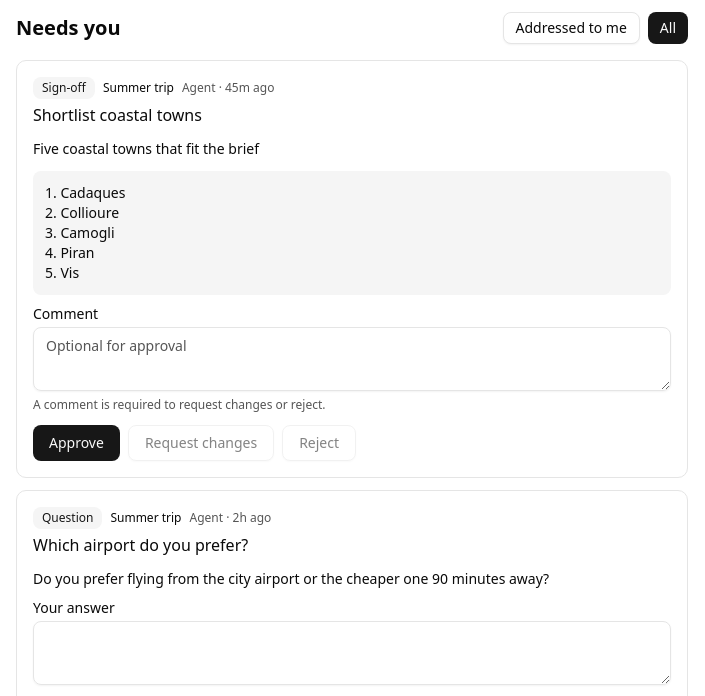
it: Needs you inbox › rejecting and requesting changes need a comment
Expected: the button "Reject" is disabled, [282, 425, 356, 461]
Expected: the button "Request changes" is disabled, [128, 425, 274, 461]
Type "Not these" into the text box labelled "Comment" at (352, 359), box [33, 327, 671, 391]
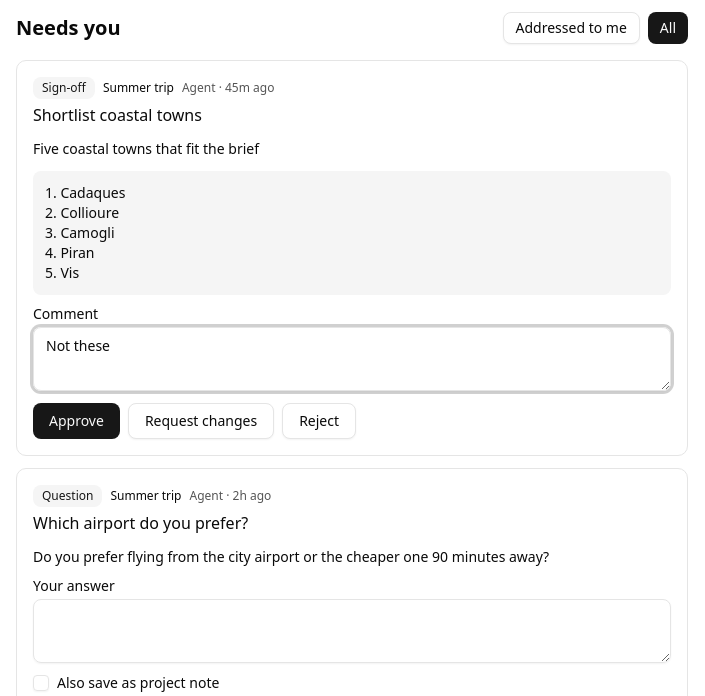
Expected: the button "Reject" is enabled
Click the button "Reject" at (319, 421), box [282, 403, 356, 439]
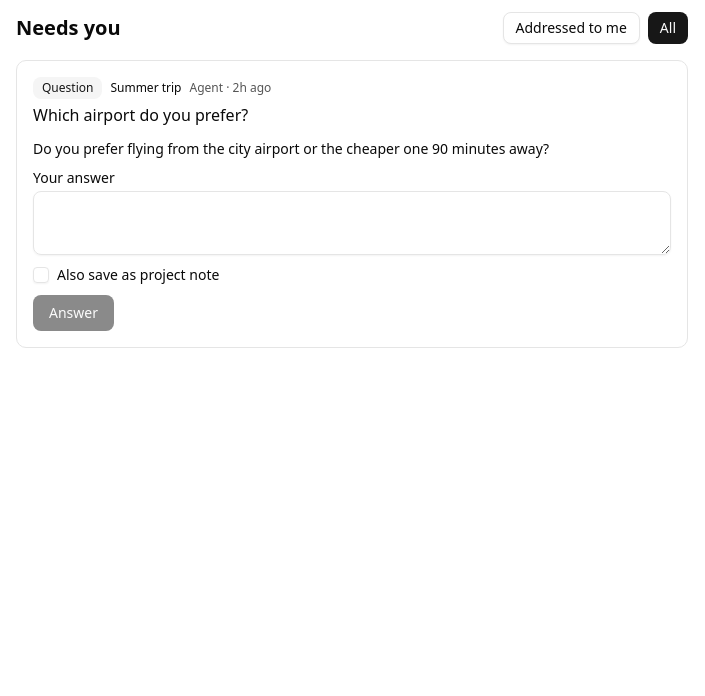
Expected: the text "Five coastal towns that fit the brief" is gone
